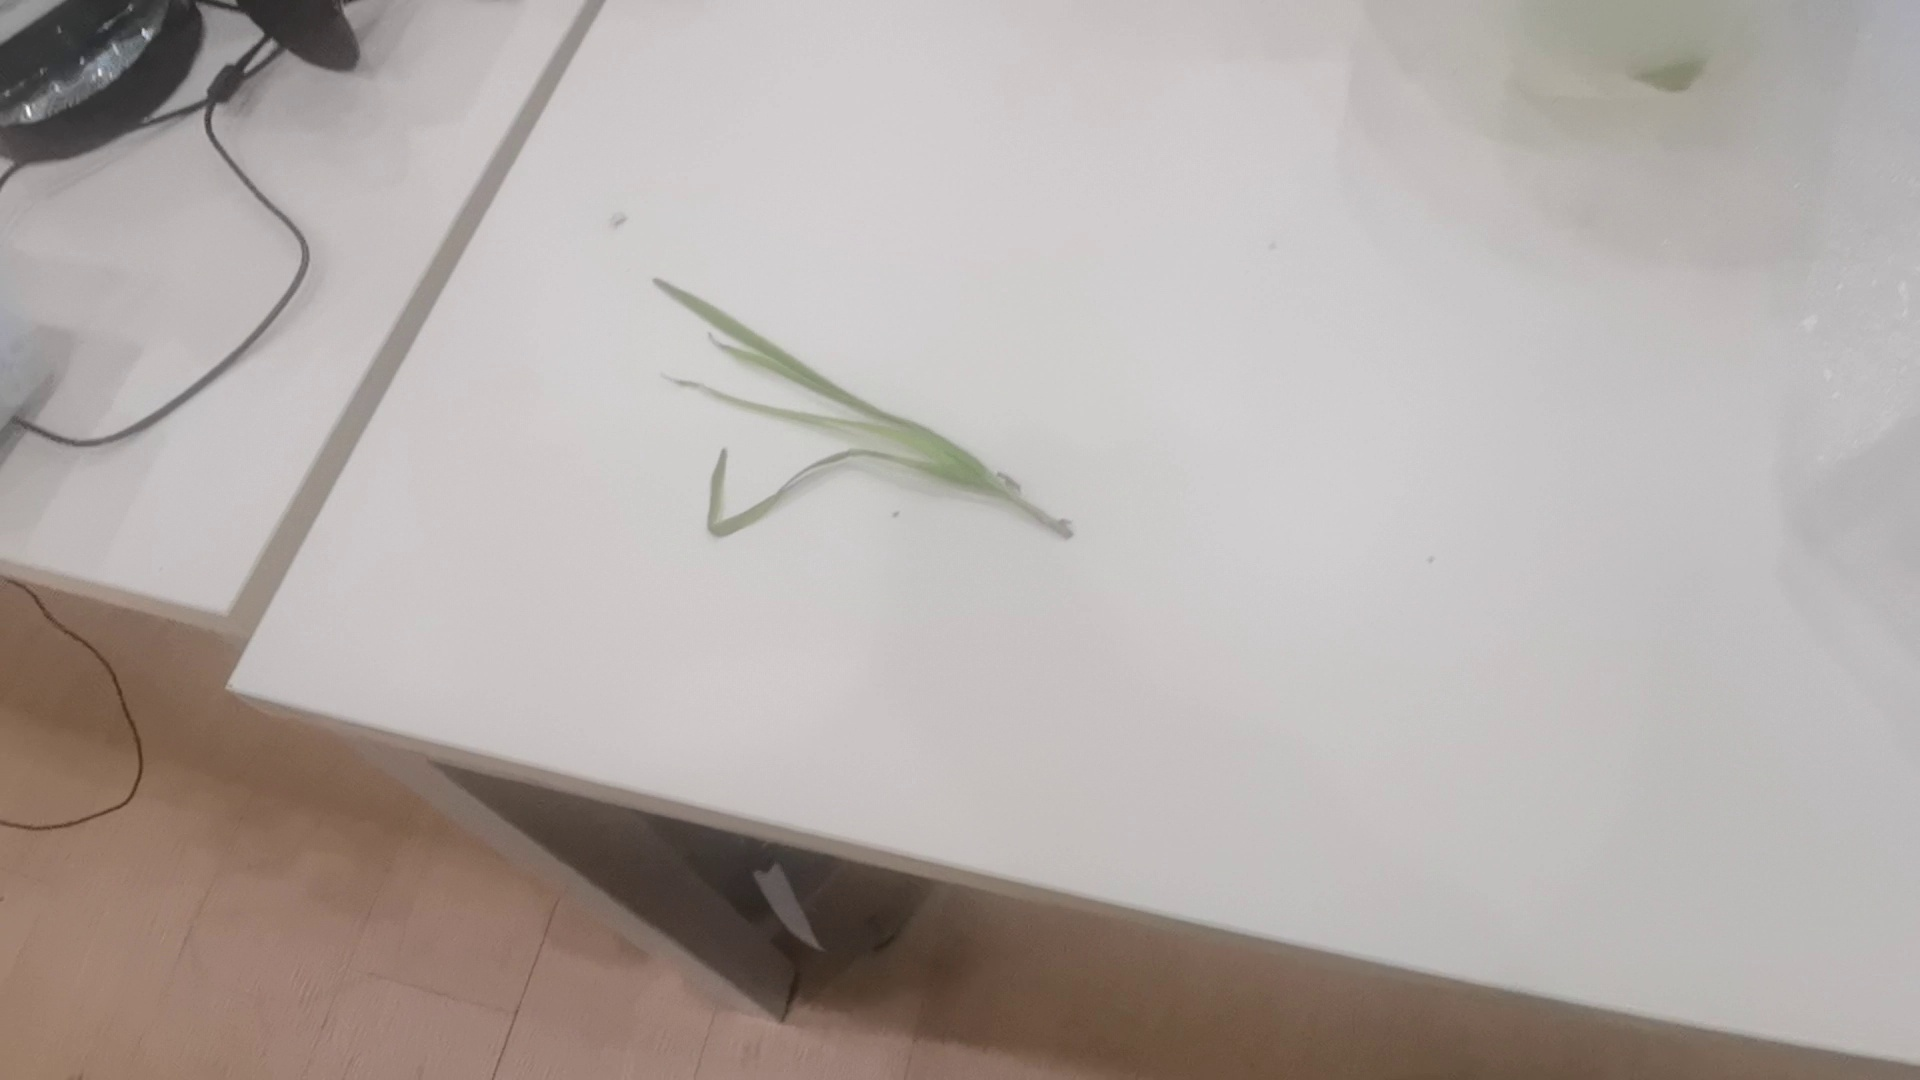chives: (637, 280, 1079, 545)
